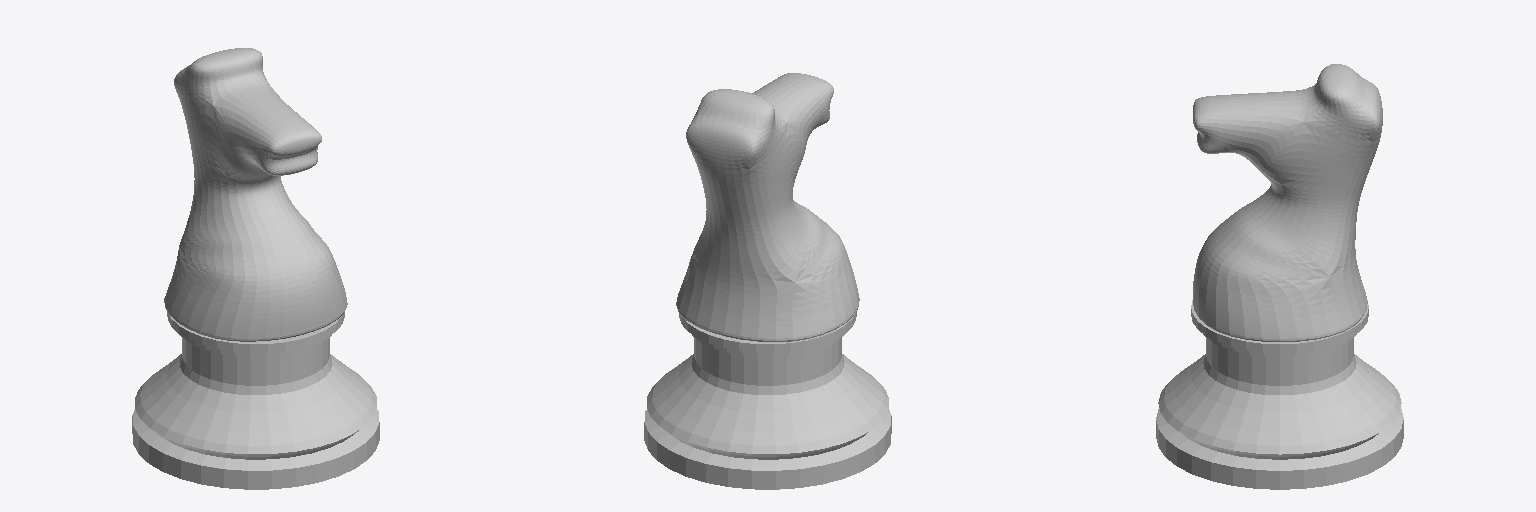
File: whiteknight.obj
3 views of the same model, side by side, from view 1: azimuth 30°, elevation 25°; view 2: azimuth 150°, elevation 25°; view 3: azimuth 270°, elevation 25° (orthographic).
Visible parts, largest first — view 1: knight_Cube; view 2: knight_Cube; view 3: knight_Cube.
Boxes of the visible parts, x1=… form: knight_Cube: x1=132, y1=48, x2=379, y2=489; knight_Cube: x1=644, y1=73, x2=891, y2=489; knight_Cube: x1=1156, y1=64, x2=1403, y2=489.
Size of the model in its own units: 2 by 3.24 by 2.